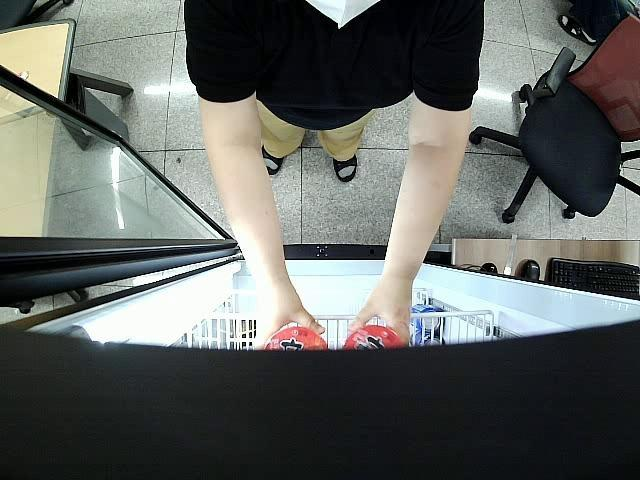02_shinRamen_S: (262, 328, 330, 351), (342, 325, 404, 350)
